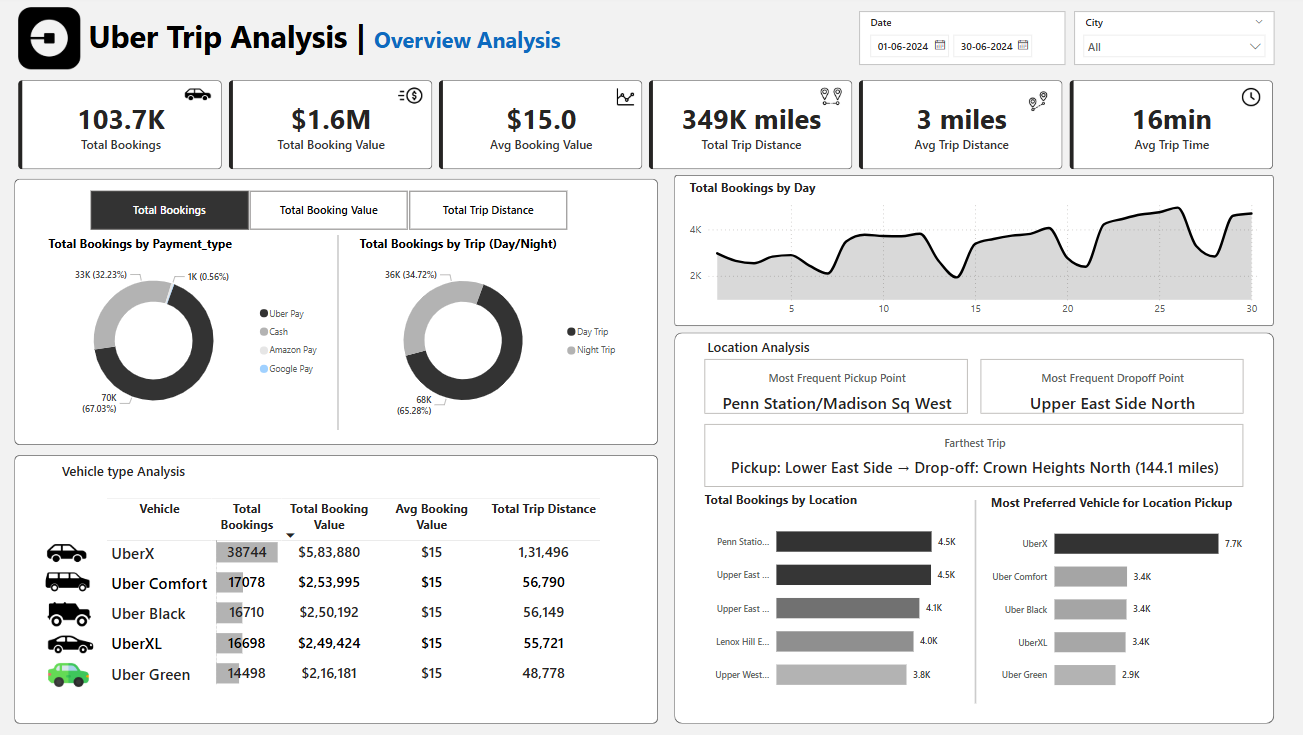

The dashboard page shown, as its layout file describes it:
{"tool":"powerbi","page":{"name":"Overview Analysis","canvas":[1600,900],"ordinal":0},"visuals":[{"type":"textbox","box":[105.5,13.8,663.4,65.7],"z":1000},{"type":"shape","box":[19.9,218.6,787.2,325.6],"z":2000},{"type":"cardVisual","fields":{"Data":["MeasureTable.Total Bookings","MeasureTable.Total Booking Value","MeasureTable.Avg Booking Amount","MeasureTable.Total Trip Distance","MeasureTable.Avg Trip Distance","MeasureTable.Avg Trip Time"]},"box":[19.9,93.2,1548.4,119.2],"z":3000},{"type":"slicer","fields":{"Values":["Dynamic Measures.Dynamic Measures"]},"box":[87.1,226.2,632.8,61.1],"z":4000},{"type":"donutChart","fields":{"Y":["MeasureTable.Total Bookings"],"Category":["Trip Details.Payment_type"]},"box":[56.6,287.4,347,238.5],"z":5000},{"type":"donutChart","fields":{"Y":["MeasureTable.Total Bookings"],"Category":["Trip Details.Trip Type (Day/Night)"]},"box":[437.2,287.4,331.7,238.5],"z":6000},{"type":"shape","box":[19.9,556.4,787.2,328.6],"z":7000},{"type":"pivotTable","fields":{"Rows":["Trip Details.Vehicle"],"Values":["MeasureTable.Total Bookings","MeasureTable.Total Booking Value","MeasureTable.Avg Booking Value","MeasureTable.Total Trip Distance Measure"]},"box":[128.4,603.8,666.4,273.6],"z":8000},{"type":"card","fields":{"Values":["MeasureTable.Title for Grid"]},"box":[30.6,557.9,246.1,41.3],"z":9000},{"type":"shape","box":[826.9,214,733.7,185],"z":10000},{"type":"areaChart","fields":{"Category":["Calendar Table.Date.Variation.Date Hierarchy.Day"],"Y":["MeasureTable.Total Bookings"]},"box":[840.7,218.6,707.7,177.3],"z":11000},{"type":"shape","box":[826.9,406.6,733.7,478.4],"z":12000},{"type":"cardVisual","fields":{"Data":["MeasureTable.Most Frequent Pickup Point","MeasureTable.Most Frequent Dropoff Point"]},"box":[859,434.1,669.5,78],"z":13000},{"type":"cardVisual","fields":{"Data":["MeasureTable.Farthest Trip"]},"box":[859,513.6,669.5,87.1],"z":14000},{"type":"barChart","fields":{"Category":["Location Table.Location"],"Y":["MeasureTable.Total Bookings"]},"box":[859,600.7,321,259.9],"z":15000},{"type":"barChart","title":"Most Preferred Vehicle for Location Pickup ","fields":{"Category":["Trip Details.Vehicle"],"Y":["CountNonNull(Trip Details.PULocationID)"]},"box":[1209.1,603.8,319.5,256.8],"z":16000},{"type":"shape","box":[403.5,287.4,24.5,238.5],"z":17000},{"type":"shape","box":[1183.1,611.4,24.5,249.2],"z":18000},{"type":"card","fields":{"Values":["MeasureTable.Title for Location"]},"box":[807.1,406.6,246.1,41.3],"z":19000},{"type":"slicer","fields":{"Values":["Calendar Table.Date"]},"box":[1053.2,13.8,252.2,65.7],"z":20000},{"type":"slicer","fields":{"Values":["Location Table.City"]},"box":[1316.1,13.8,244.6,65.7],"z":21000},{"type":"image","box":[484.5,93.2,39.7,47.4],"z":21001},{"type":"image","box":[1251.9,107,41.3,33.6],"z":21002},{"type":"image","box":[1001.2,99.4,35.2,36.7],"z":21003},{"type":"image","box":[1516.3,96.3,32.1,44.3],"z":21004},{"type":"image","box":[750.5,100.9,33.6,35.2],"z":21005},{"type":"image","box":[19.9,0,85.6,93.2],"z":21006},{"type":"image","box":[48.9,646.6,70.3,59.6],"z":21007},{"type":"image","box":[56.6,790.3,59.6,70.3],"z":21008},{"type":"image","box":[50.4,677.1,68.8,68.8],"z":21009},{"type":"image","box":[48.9,752,79.5,71.8],"z":21010},{"type":"image","box":[53.5,719.9,67.3,62.7],"z":21011},{"type":"image","box":[223.2,90.2,42.8,50.4],"z":21012}]}

Visuals, with their boxes in screenshot pixels (x1, y1, x2, y2), scaled from the page's 1600x900 canvas onto the 1303x735 screenshot:
textbox: 86,11,626,65
shape: 16,179,657,444
cardVisual - MeasureTable.Total Bookings x MeasureTable.Total Booking Value: 16,76,1277,173
slicer - Dynamic Measures.Dynamic Measures: 71,185,586,235
donutChart - MeasureTable.Total Bookings x Trip Details.Payment_type: 46,235,329,429
donutChart - MeasureTable.Total Bookings x Trip Details.Trip Type (Day/Night): 356,235,626,429
shape: 16,454,657,723
pivotTable - Trip Details.Vehicle x MeasureTable.Total Bookings: 105,493,647,717
card - MeasureTable.Title for Grid: 25,456,225,489
shape: 673,175,1271,326
areaChart - Calendar Table.Date.Variation.Date Hierarchy.Day x MeasureTable.Total Bookings: 685,179,1261,323
shape: 673,332,1271,723
cardVisual - MeasureTable.Most Frequent Pickup Point x MeasureTable.Most Frequent Dropoff Point: 700,355,1245,418
cardVisual - MeasureTable.Farthest Trip: 700,419,1245,491
barChart - Location Table.Location x MeasureTable.Total Bookings: 700,491,961,703
"Most Preferred Vehicle for Location Pickup " barChart: 985,493,1245,703
shape: 329,235,349,429
shape: 963,499,983,703
card - MeasureTable.Title for Location: 657,332,858,366
slicer - Calendar Table.Date: 858,11,1063,65
slicer - Location Table.City: 1072,11,1271,65
image: 395,76,427,115
image: 1020,87,1053,115
image: 815,81,844,111
image: 1235,79,1261,115
image: 611,82,639,111
image: 16,0,86,76
image: 40,528,97,577
image: 46,645,95,703
image: 41,553,97,609
image: 40,614,105,673
image: 44,588,98,639
image: 182,74,217,115
